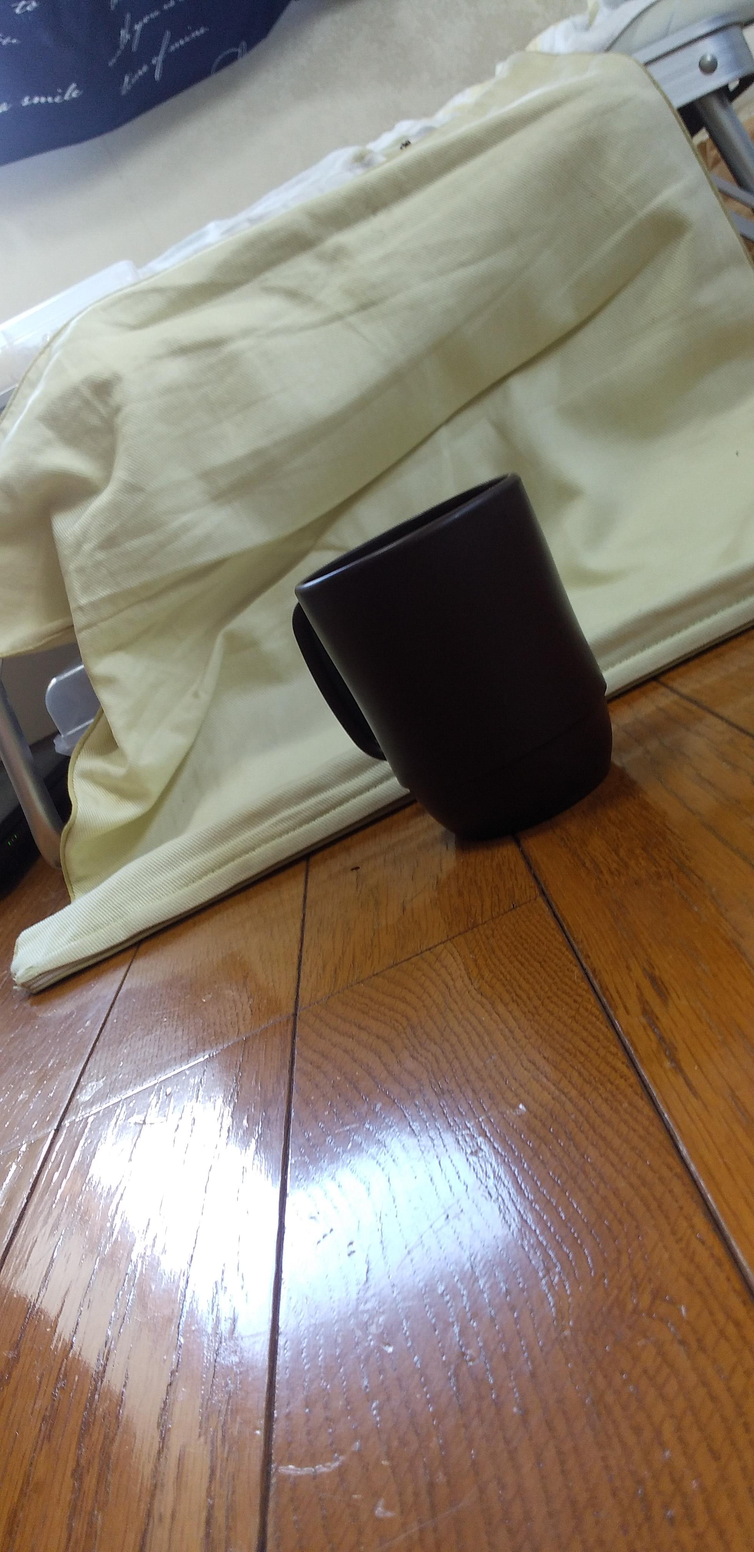mug-real100-3d100: (292, 475, 612, 838)
